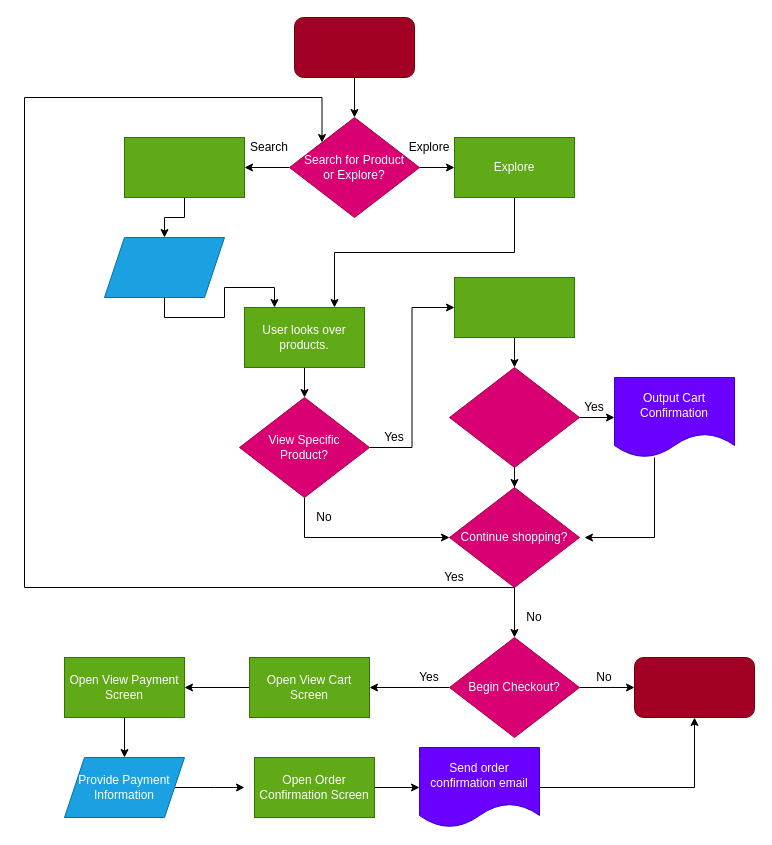
The diagram is 772 pixels wide and 845 high, and some of its shapes have lost their labels. Each missing label, with the centre of its shape:
Add item to cart?: the point at 514,417
Open Specific Product Page: the point at 514,307
Provide Search Query: the point at 164,267
Search for a new product: the point at 184,167
User enters website.: the point at 354,47
User leaves website.: the point at 694,687
